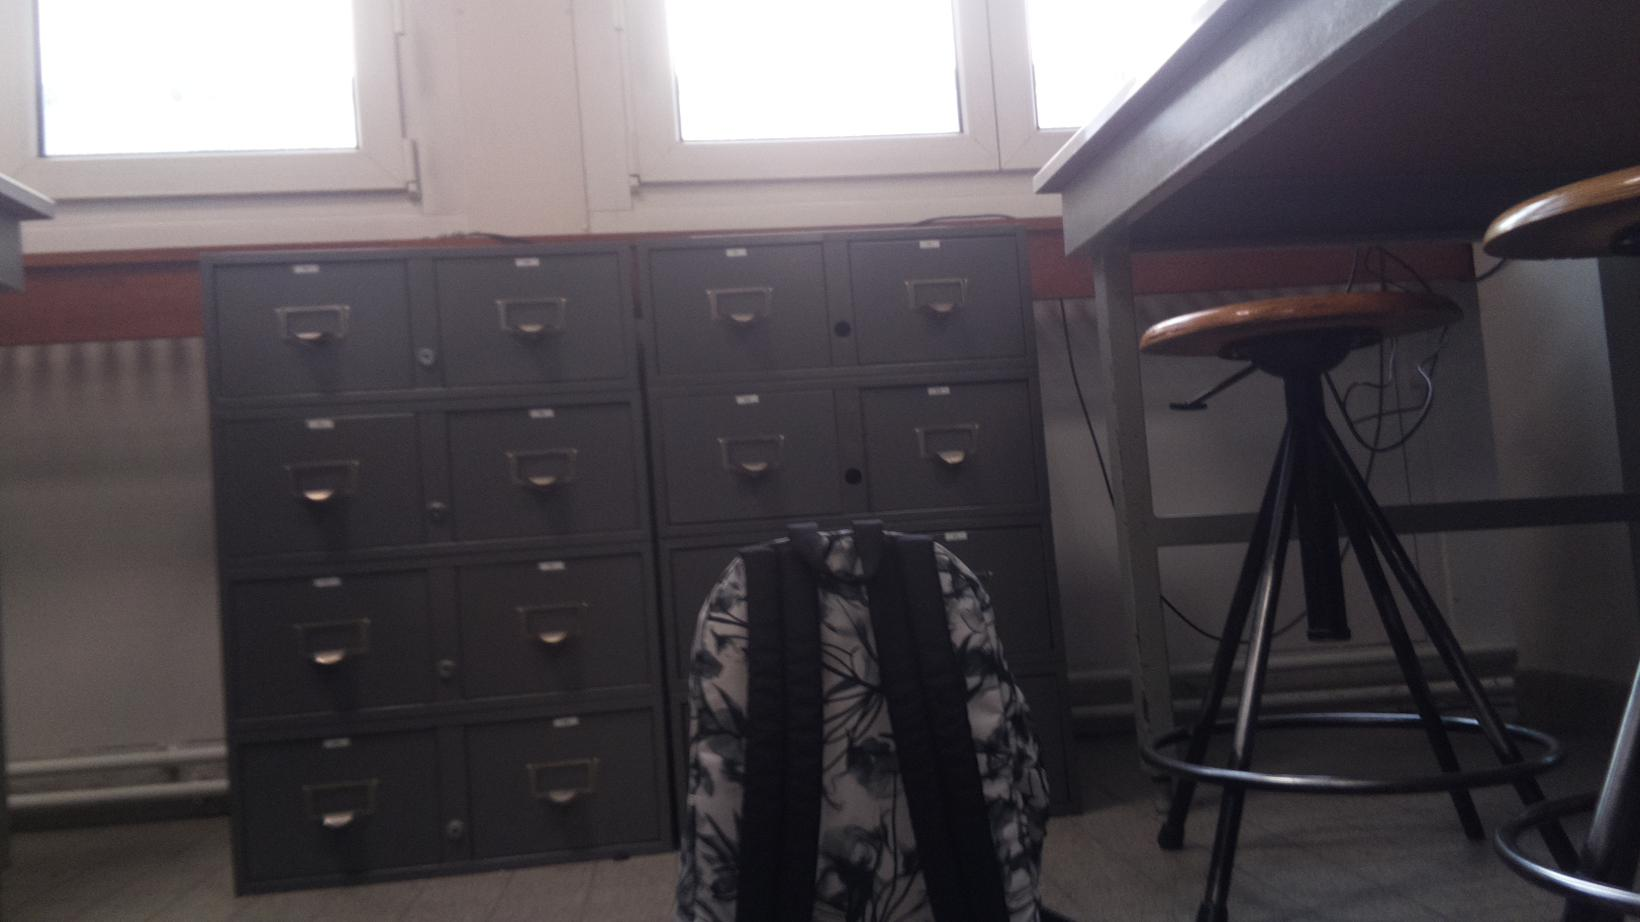big: (686, 520, 1057, 922)
